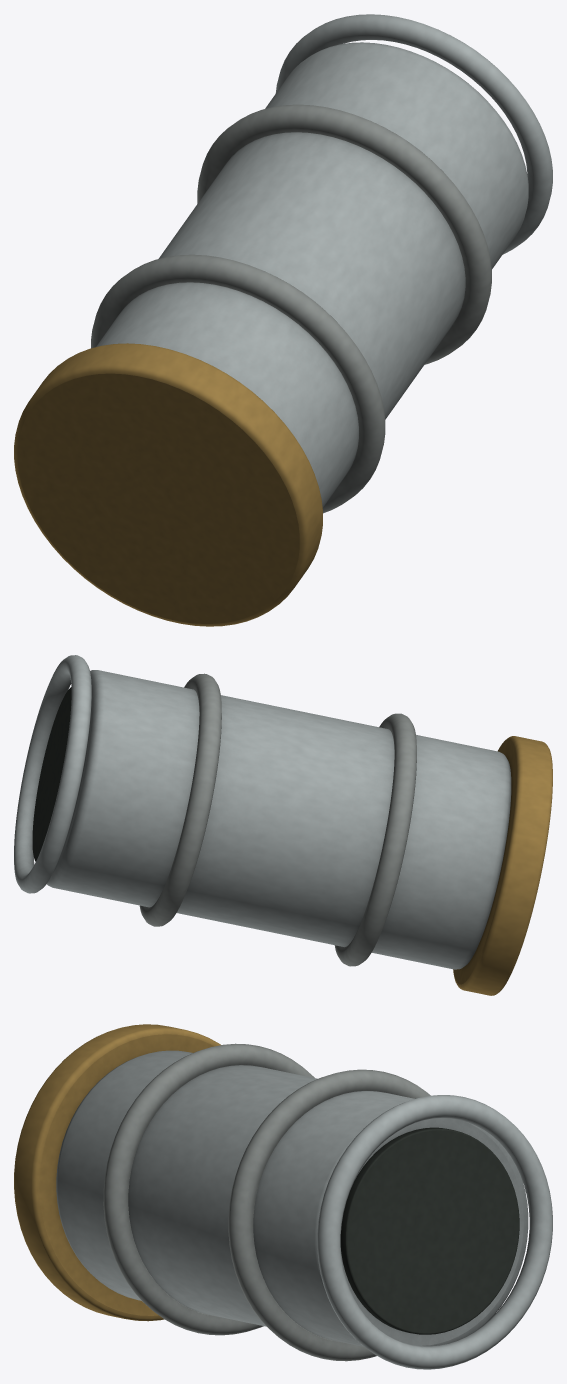
3 renders of one model, top to bottom at view 1: azimuth 30°, elevation 25°; view 2: azimuth 150°, elevation 25°; view 3: azimuth 270°, elevation 25°, orthographic. The views are drawn at different scales.
Parts seen in each view (by area): view 1: Drawn case body; view 2: Drawn case body; view 3: Drawn case body.
Part boxes in pixels (left/top/right/bottom): Drawn case body: left=14, top=14, right=552, bottom=626; Drawn case body: left=14, top=655, right=552, bottom=995; Drawn case body: left=14, top=1024, right=552, bottom=1369.
Size of the model in its own units: 1.31 by 0.8807 by 1.15.
1 material, 1 textured.
